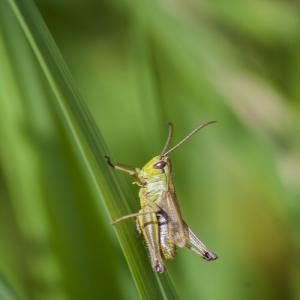locust: (86, 85, 217, 282)
